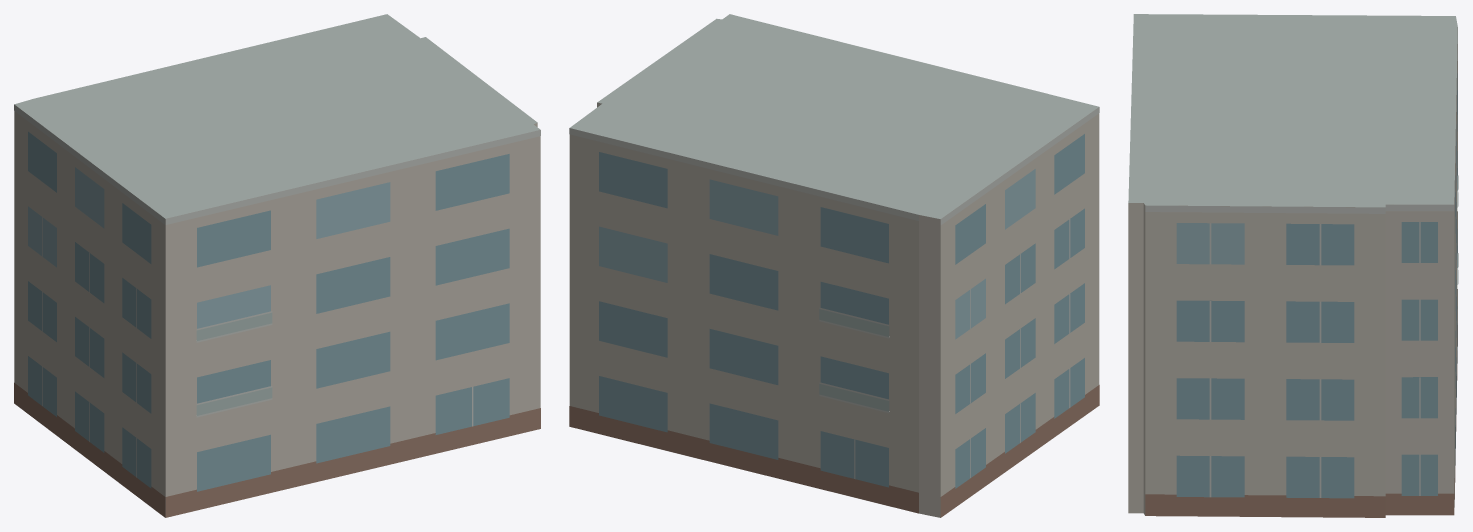
File: survey-upis-32823810.glb
3 views of the same model, side by side, from view 1: azimuth 30°, elevation 25°; view 2: azimuth 150°, elevation 25°; view 3: azimuth 270°, elevation 25° (orthographic). The views are drawn at different scales.
Visible parts, largest first — view 1: survey-upis-32823810.tmp; view 2: survey-upis-32823810.tmp; view 3: survey-upis-32823810.tmp.
Boxes of the visible parts, left/top/right/bottom form: survey-upis-32823810.tmp: left=14, top=14, right=540, bottom=517; survey-upis-32823810.tmp: left=569, top=14, right=1099, bottom=517; survey-upis-32823810.tmp: left=1128, top=14, right=1458, bottom=517.
Size of the model in its own units: 15.37 by 11.5 by 11.09.
